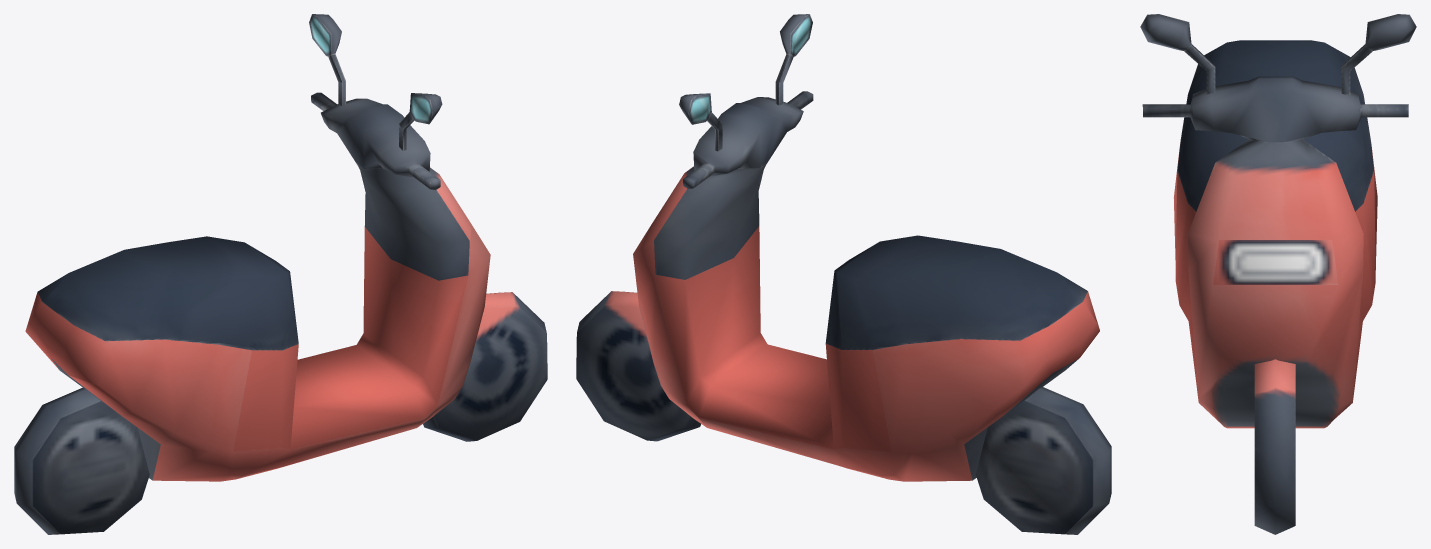
File: Red_scooter.glb
3 renders of one model, left to right at view 1: azimuth 30°, elevation 25°; view 2: azimuth 150°, elevation 25°; view 3: azimuth 270°, elevation 25°, orthographic. The views are drawn at different scales.
Visible parts, largest first — view 1: Red_scooter.001; view 2: Red_scooter.001; view 3: Red_scooter.001.
Boxes of the visible parts, left/top/right/bottom form: Red_scooter.001: left=14, top=14, right=547, bottom=534; Red_scooter.001: left=576, top=14, right=1111, bottom=534; Red_scooter.001: left=1140, top=14, right=1416, bottom=534.
Bounding box in the file's own units: 1.01 × 0.7454 × 0.411.
1 material, 1 textured.
